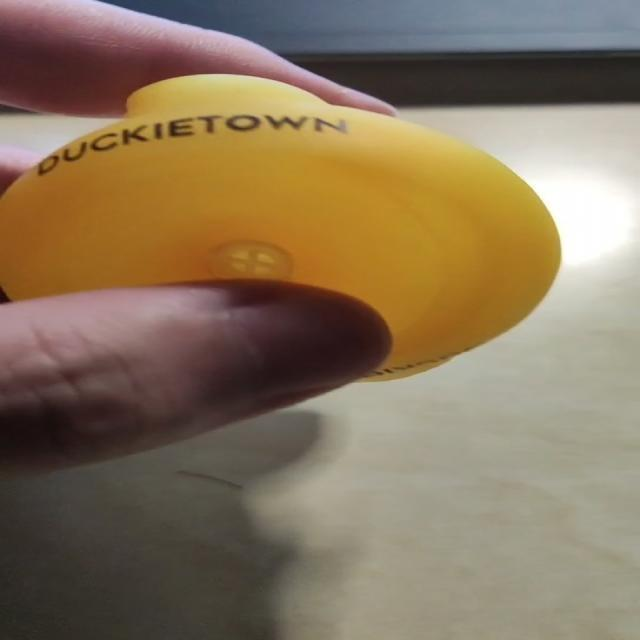rubber-duck: (0, 74, 559, 378)
